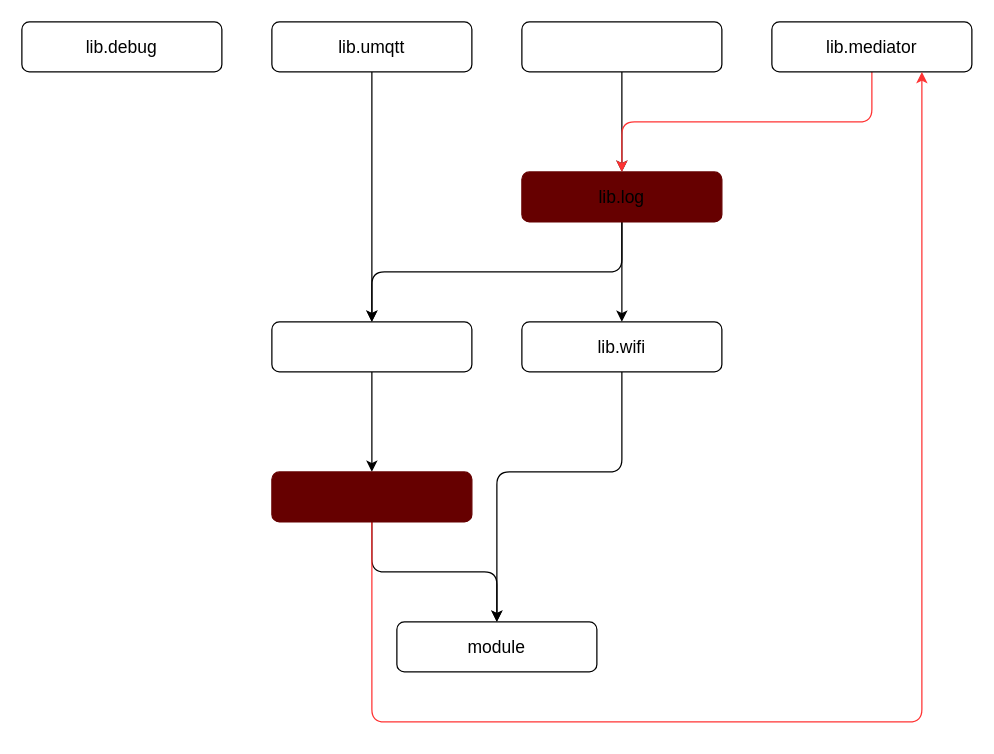
The diagram is 994 pixels wide and 754 high, and some of its shapes have lost their labels. Here are the shapes that lost their labels. From the top down, the centre of each, then its label:
the point at 621,46: lib.device_config
the point at 371,346: lib.mqtt
the point at 371,496: lib.rpc
